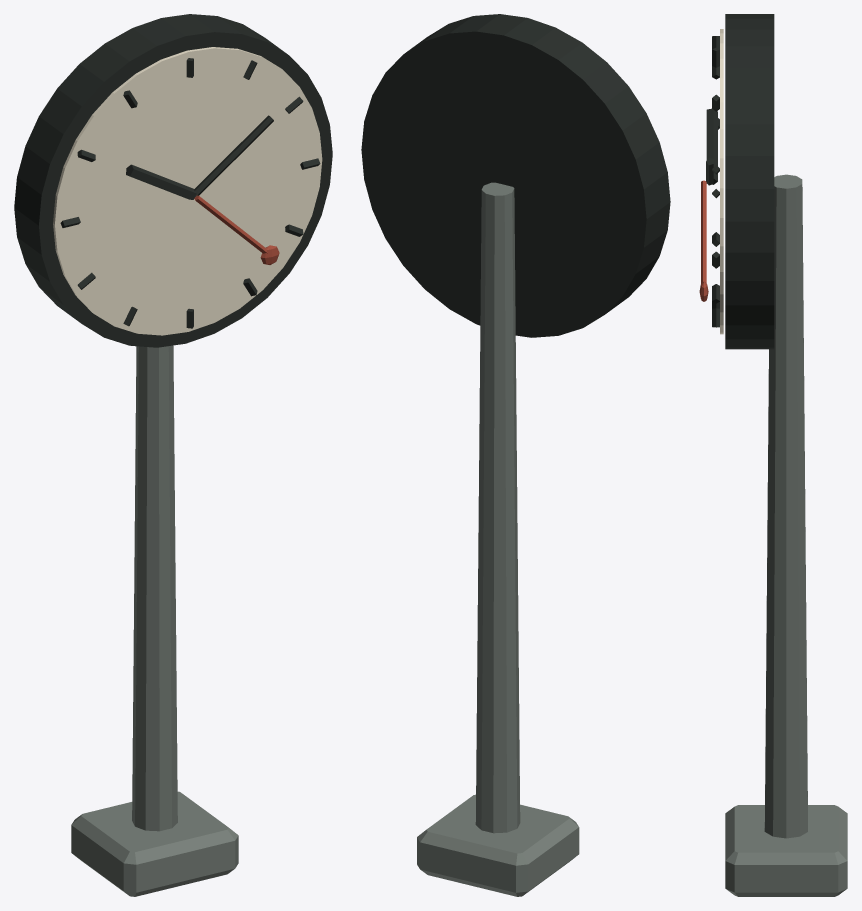
The model's file is station-clock.glb.
3 renders of one model, left to right at view 1: azimuth 30°, elevation 25°; view 2: azimuth 150°, elevation 25°; view 3: azimuth 270°, elevation 25°, orthographic. The views are drawn at different scales.
Visible parts, largest first — view 1: station-clock; view 2: station-clock; view 3: station-clock.
Part boxes in pixels (x1=…): station-clock: x1=14, y1=14, x2=332, y2=896; station-clock: x1=361, y1=14, x2=670, y2=896; station-clock: x1=699, y1=14, x2=847, y2=896.
Size of the model in its own units: 1.1 by 3.05 by 0.485.
